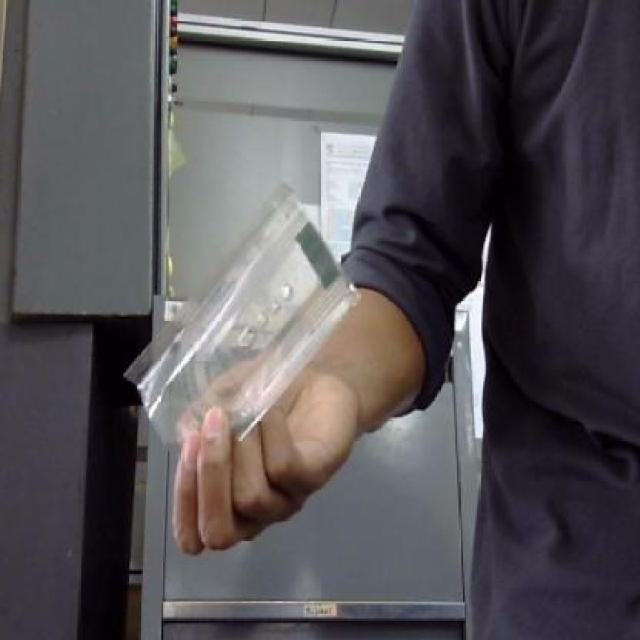Plastic: (121, 176, 367, 471)
